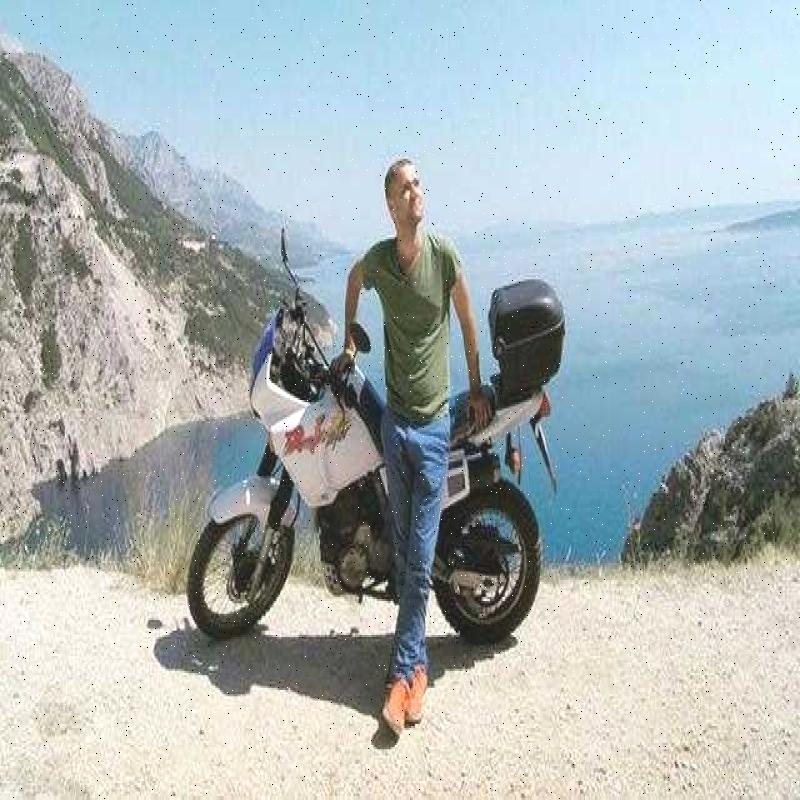bike: (164, 212, 570, 656)
